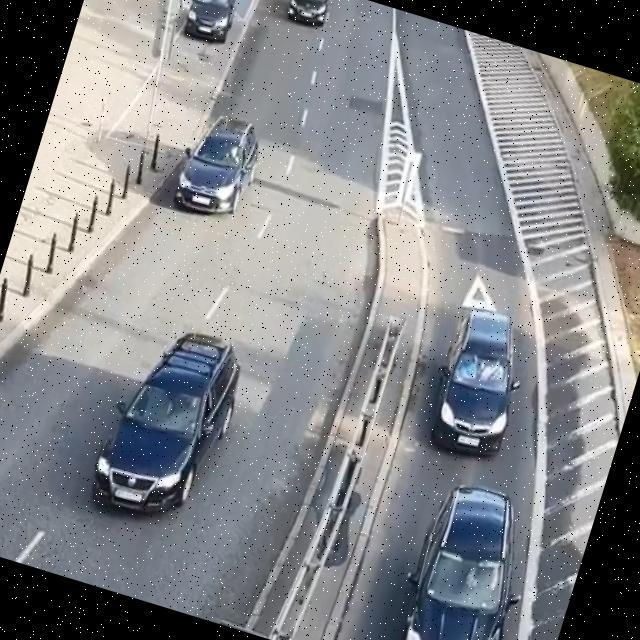car: (95, 334, 239, 511), (408, 488, 510, 639), (432, 299, 515, 453), (175, 118, 258, 212), (185, 0, 235, 42), (289, 0, 327, 26)
